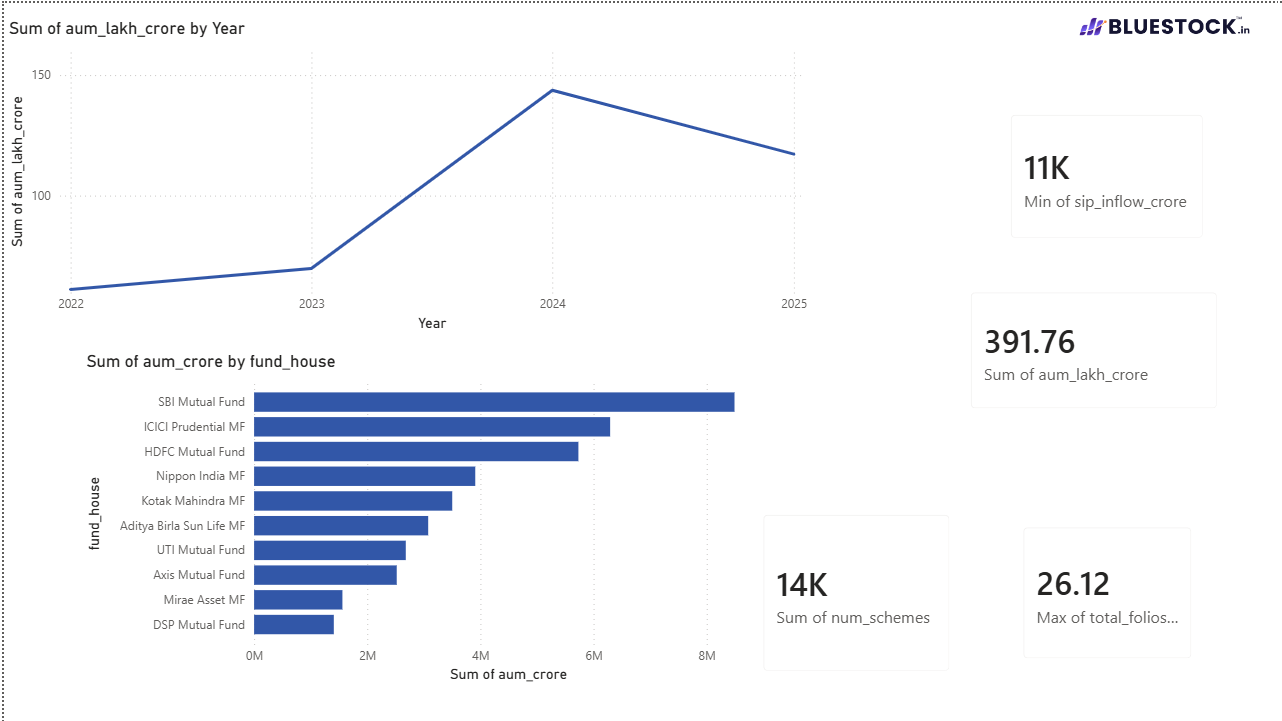

What the dashboard file says about the page in this screenshot:
{"tool":"powerbi","page":{"name":"Page 1","canvas":[1280,720],"ordinal":0},"visuals":[{"type":"cardVisual","fields":{"Data":["Max(06_industry_folio_count.total_folios_crore)"]},"box":[1002,507,202,165],"z":0},{"type":"lineChart","fields":{"Category":["03_aum_by_fund_house.date.Variation.Date Hierarchy.Year","03_aum_by_fund_house.date.Variation.Date Hierarchy.Quarter","03_aum_by_fund_house.date.Variation.Date Hierarchy.Month","03_aum_by_fund_house.date.Variation.Date Hierarchy.Day"],"Y":["Sum(03_aum_by_fund_house.aum_lakh_crore)"]},"box":[0,15,808,318],"z":1},{"type":"clusteredBarChart","fields":{"Category":["03_aum_by_fund_house.fund_house"],"Y":["Sum(03_aum_by_fund_house.aum_crore)"]},"box":[77,348,696,337],"z":2},{"type":"cardVisual","fields":{"Data":["Min(04_monthly_sip_inflows.sip_inflow_crore)"]},"box":[990,95,226,157],"z":3},{"type":"cardVisual","fields":{"Data":["Sum(03_aum_by_fund_house.num_schemes)"]},"box":[742,495,220,190],"z":4},{"type":"cardVisual","fields":{"Data":["Sum(03_aum_by_fund_house.aum_lakh_crore)"]},"box":[950,273,280,150],"z":5},{"type":"image","box":[1075,0,172,46],"z":6}]}

Visuals, with their boxes in screenshot pixels (x1, y1, x2, y2), scaled from the page's 1280x720 canvas onto the 1282x721 screenshot:
cardVisual - Max(06_industry_folio_count.total_folios_crore): region(1004, 508, 1206, 673)
lineChart - 03_aum_by_fund_house.date.Variation.Date Hierarchy.Year x 03_aum_by_fund_house.date.Variation.Date Hierarchy.Quarter: region(0, 15, 809, 333)
clusteredBarChart - 03_aum_by_fund_house.fund_house x Sum(03_aum_by_fund_house.aum_crore): region(77, 348, 774, 686)
cardVisual - Min(04_monthly_sip_inflows.sip_inflow_crore): region(992, 95, 1218, 252)
cardVisual - Sum(03_aum_by_fund_house.num_schemes): region(743, 496, 964, 686)
cardVisual - Sum(03_aum_by_fund_house.aum_lakh_crore): region(951, 273, 1232, 424)
image: region(1077, 0, 1249, 46)
